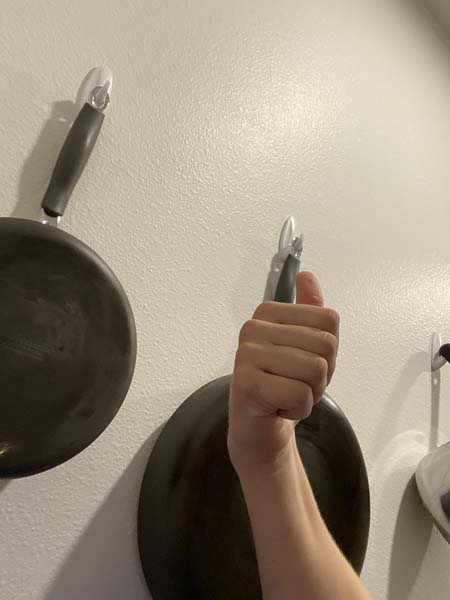Thumbs Up: (223, 262, 354, 460)
